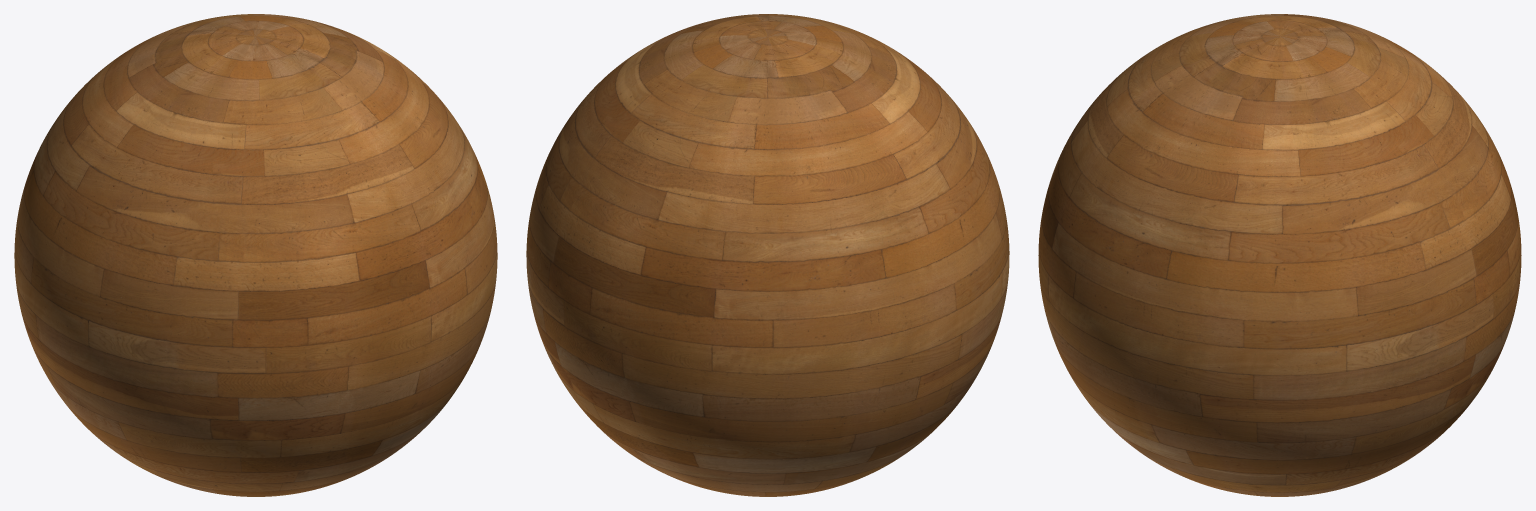
File: old_wooden_floor_01_2k.gltf
3 renders of one model, left to right at view 1: azimuth 30°, elevation 25°; view 2: azimuth 150°, elevation 25°; view 3: azimuth 270°, elevation 25°, orthographic.
Parts seen in each view (by area): view 1: sphere_gltf; view 2: sphere_gltf; view 3: sphere_gltf.
Boxes of the visible parts, x1,y1,x2,y2 form: sphere_gltf: [14, 14, 497, 496]; sphere_gltf: [526, 14, 1009, 496]; sphere_gltf: [1038, 14, 1521, 496].
Size of the model in its own units: 2 by 2 by 2.
1 material, 1 textured.
